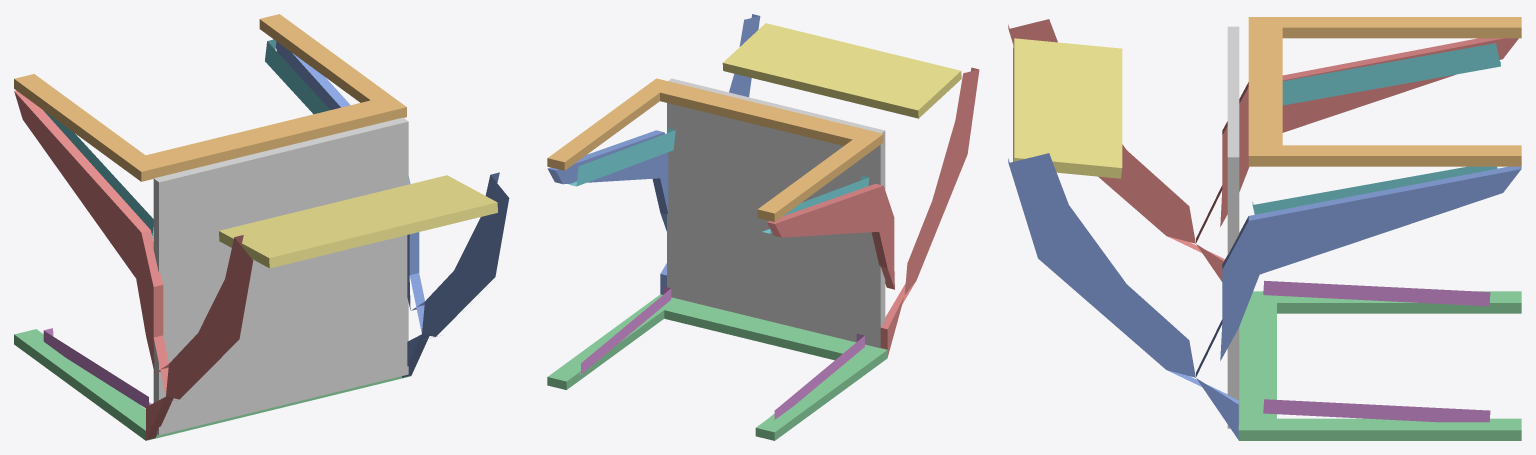
3 views of the same model, side by side, from view 1: azimuth 30°, elevation 25°; view 2: azimuth 150°, elevation 25°; view 3: azimuth 270°, elevation 25° (orthographic). The views are drawn at different scales.
Parts seen in each view (by area): view 1: Asiento, Lateral Izq. A, Escuadra Tras. D, Respaldo, Lateral Der. B, Escuadra Del. C, Refuerzo delantero I, Refuerzo trasero D, Refuerzo trasero I; view 2: Asiento, Respaldo, Escuadra Tras. D, Lateral Izq. A, Escuadra Del. C, Lateral Der. B, Refuerzo trasero D, Refuerzo delantero D, Refuerzo delantero I, Refuerzo trasero I; view 3: Lateral Der. B, Escuadra Tras. D, Escuadra Del. C, Respaldo, Lateral Izq. A, Refuerzo trasero I, Asiento, Refuerzo delantero I, Refuerzo delantero D, Refuerzo trasero D.
Part boxes in pixels (left/top/right/bottom): Asiento: left=153, top=117, right=408, bottom=435; Lateral Izq. A: left=14, top=90, right=253, bottom=440; Escuadra Tras. D: left=14, top=14, right=406, bottom=181; Respaldo: left=219, top=175, right=497, bottom=268; Lateral Der. B: left=273, top=39, right=509, bottom=377; Escuadra Del. C: left=14, top=329, right=411, bottom=440; Refuerzo delantero I: left=43, top=328, right=151, bottom=408; Refuerzo trasero D: left=265, top=39, right=330, bottom=114; Refuerzo trasero I: left=43, top=110, right=153, bottom=239; Asiento: left=667, top=78, right=885, bottom=348; Respaldo: left=722, top=23, right=961, bottom=118; Escuadra Tras. D: left=547, top=78, right=883, bottom=221; Lateral Izq. A: left=767, top=67, right=979, bottom=356; Escuadra Del. C: left=547, top=294, right=887, bottom=440; Lateral Der. B: left=547, top=14, right=760, bottom=294; Refuerzo trasero D: left=569, top=128, right=675, bottom=186; Refuerzo delantero D: left=579, top=286, right=671, bottom=374; Refuerzo delantero I: left=770, top=333, right=864, bottom=419; Refuerzo trasero I: left=762, top=175, right=869, bottom=233; Lateral Der. B: left=1008, top=153, right=1521, bottom=439; Escuadra Tras. D: left=1248, top=17, right=1521, bottom=166; Escuadra Del. C: left=1238, top=291, right=1521, bottom=440; Respaldo: left=1013, top=38, right=1122, bottom=178; Lateral Izq. A: left=1008, top=19, right=1518, bottom=281; Refuerzo trasero I: left=1282, top=43, right=1500, bottom=105; Asiento: left=1227, top=26, right=1239, bottom=428; Refuerzo delantero I: left=1263, top=280, right=1490, bottom=306; Refuerzo delantero D: left=1263, top=399, right=1490, bottom=422; Refuerzo trasero D: left=1252, top=166, right=1497, bottom=214.
Size of the model in its own units: 500 by 483 by 780.
